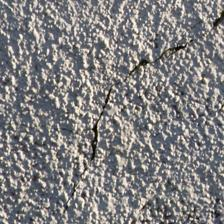Crack: (45, 21, 145, 138)
